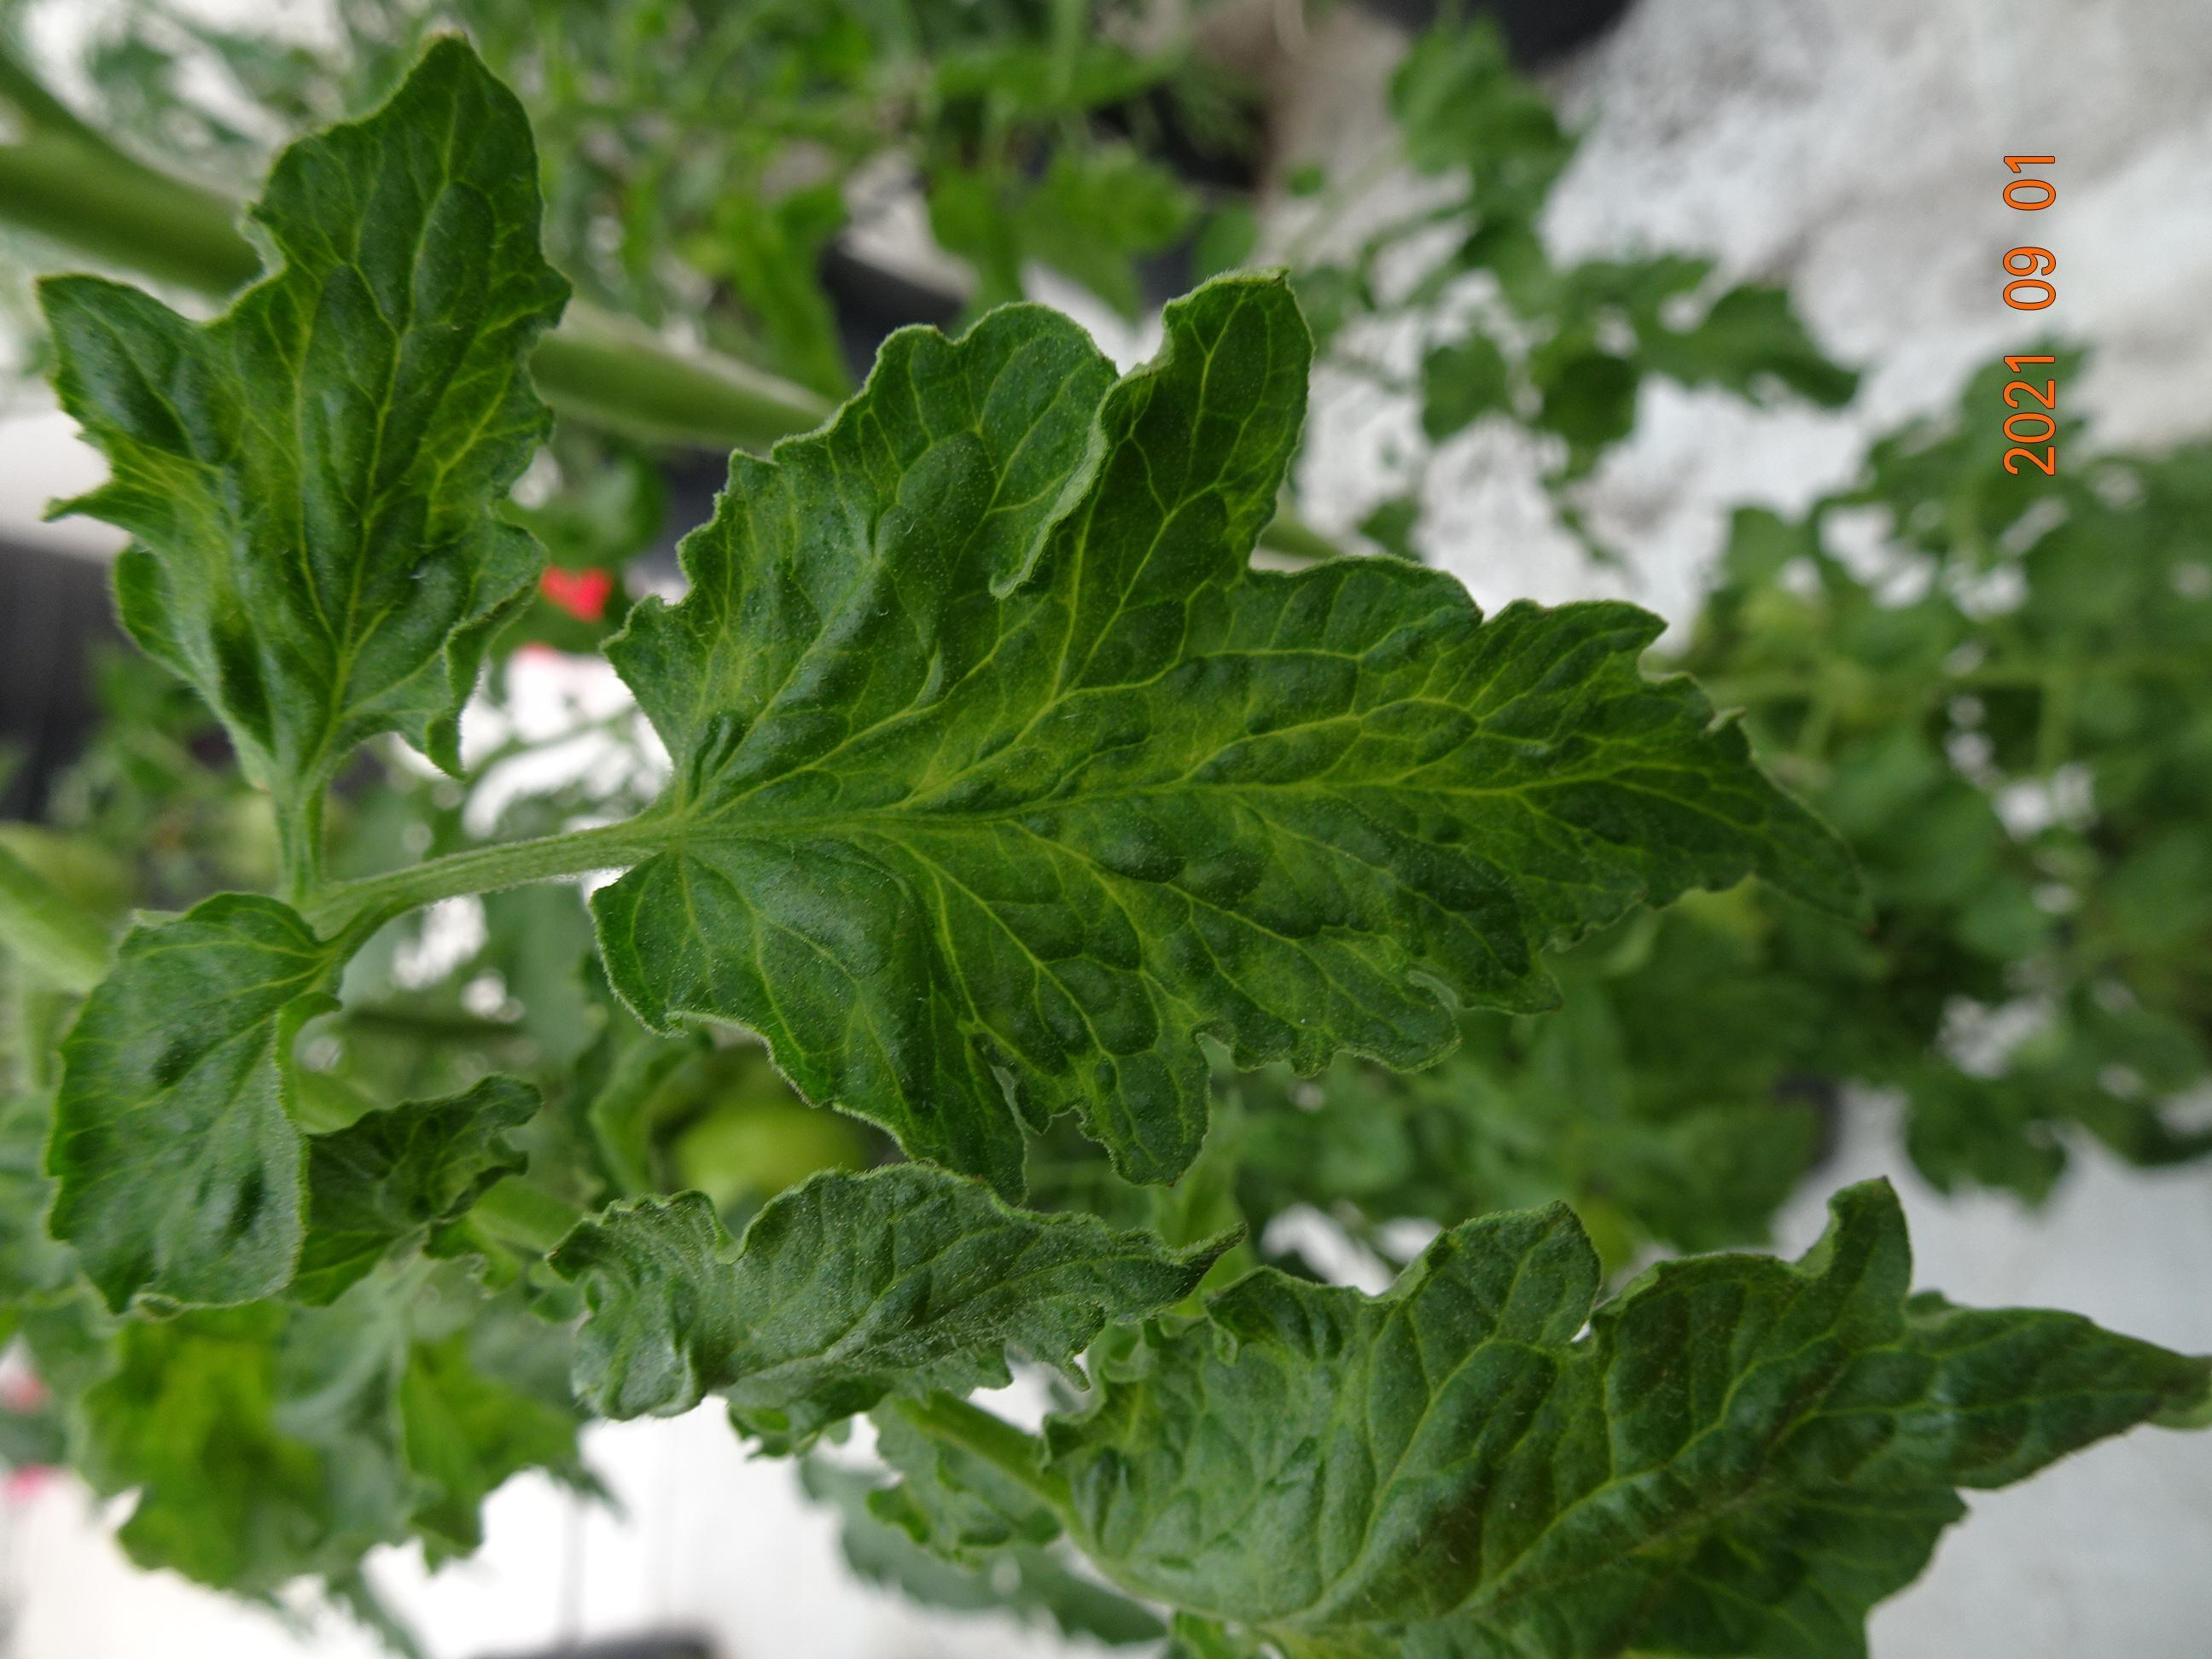Hoja rugoso: (596, 277, 1858, 1192), (1045, 1183, 2212, 1656), (38, 38, 570, 894), (554, 1162, 1231, 1448), (47, 894, 336, 1309)
Pedunculo: (310, 826, 632, 962)
